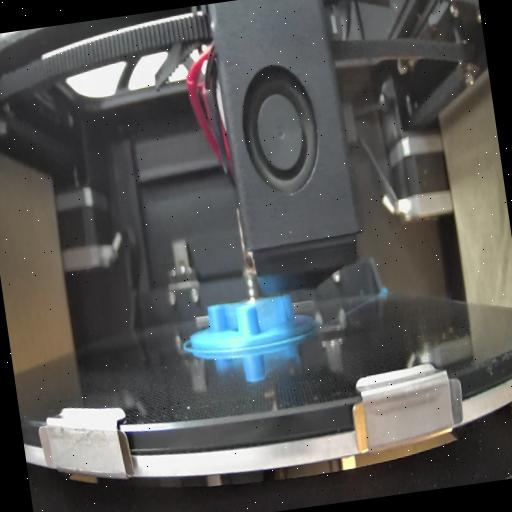stringing: (256, 294, 286, 332), (221, 304, 241, 334)
